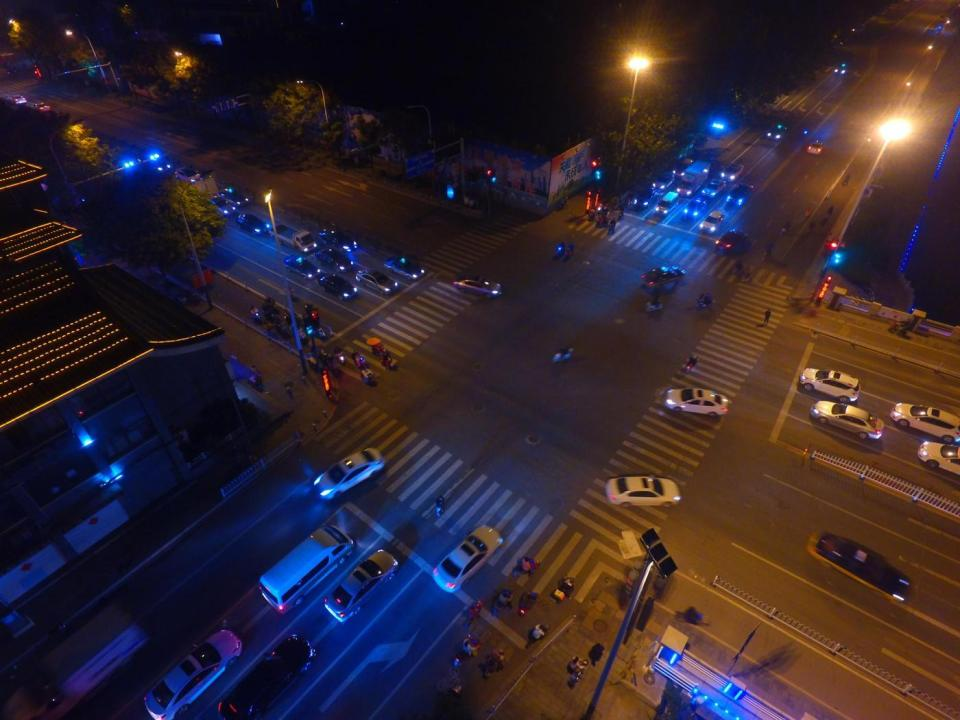car: (141, 626, 239, 720), (216, 632, 318, 720), (806, 525, 910, 606), (321, 549, 400, 624), (430, 523, 505, 594), (312, 446, 388, 502), (810, 398, 884, 443), (890, 397, 960, 443), (603, 473, 683, 508), (798, 365, 862, 404), (663, 384, 729, 418), (452, 272, 503, 300), (354, 267, 400, 296), (316, 272, 357, 300), (382, 254, 426, 280), (281, 253, 322, 279), (317, 226, 358, 252), (639, 264, 687, 286), (314, 247, 354, 272), (235, 211, 270, 235), (714, 228, 749, 251), (215, 186, 251, 208), (204, 195, 236, 218), (699, 210, 726, 234), (726, 182, 753, 206), (174, 166, 204, 186), (632, 187, 661, 207), (683, 196, 707, 220), (702, 177, 726, 199), (651, 170, 675, 192), (672, 156, 693, 179), (720, 162, 743, 181), (804, 140, 825, 155), (767, 125, 787, 140), (30, 102, 52, 113), (6, 95, 28, 105), (834, 63, 846, 76)
truck: (267, 222, 316, 252), (677, 159, 711, 197)
van: (257, 523, 356, 616), (654, 190, 679, 216)
